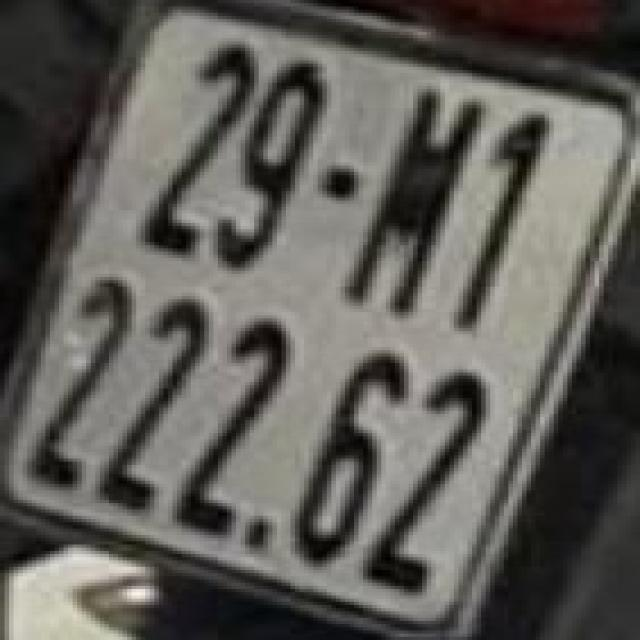1: (468, 108, 554, 331)
2: (372, 370, 486, 596), (177, 318, 281, 548), (32, 283, 127, 500), (104, 302, 200, 516)
4: (141, 48, 245, 267)
6: (295, 355, 399, 578)
9: (220, 48, 320, 270)
M: (350, 76, 468, 309)
